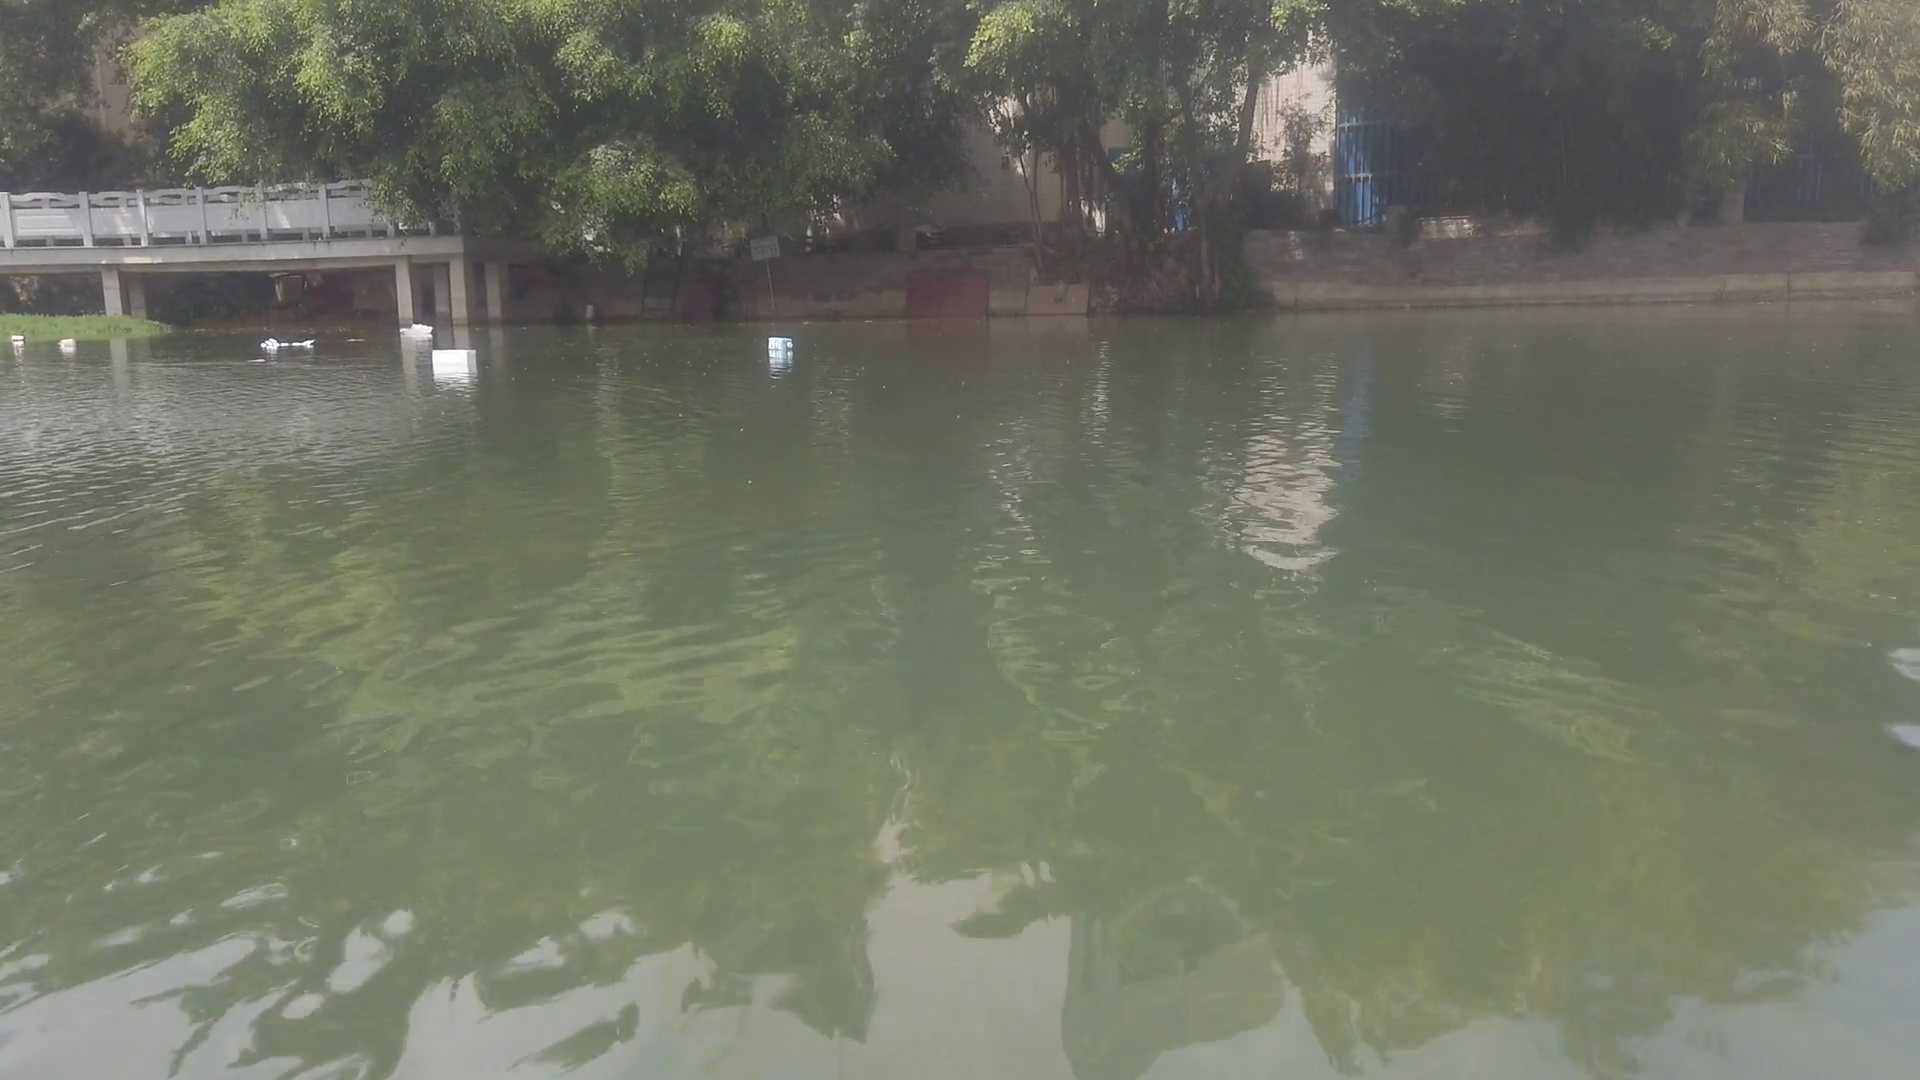bottle: (8, 334, 29, 345)
carton: (431, 343, 477, 373), (769, 334, 795, 353), (55, 335, 78, 349)
paper: (255, 334, 316, 353), (245, 353, 265, 367), (345, 334, 363, 343)
plastic: (396, 320, 436, 342)
